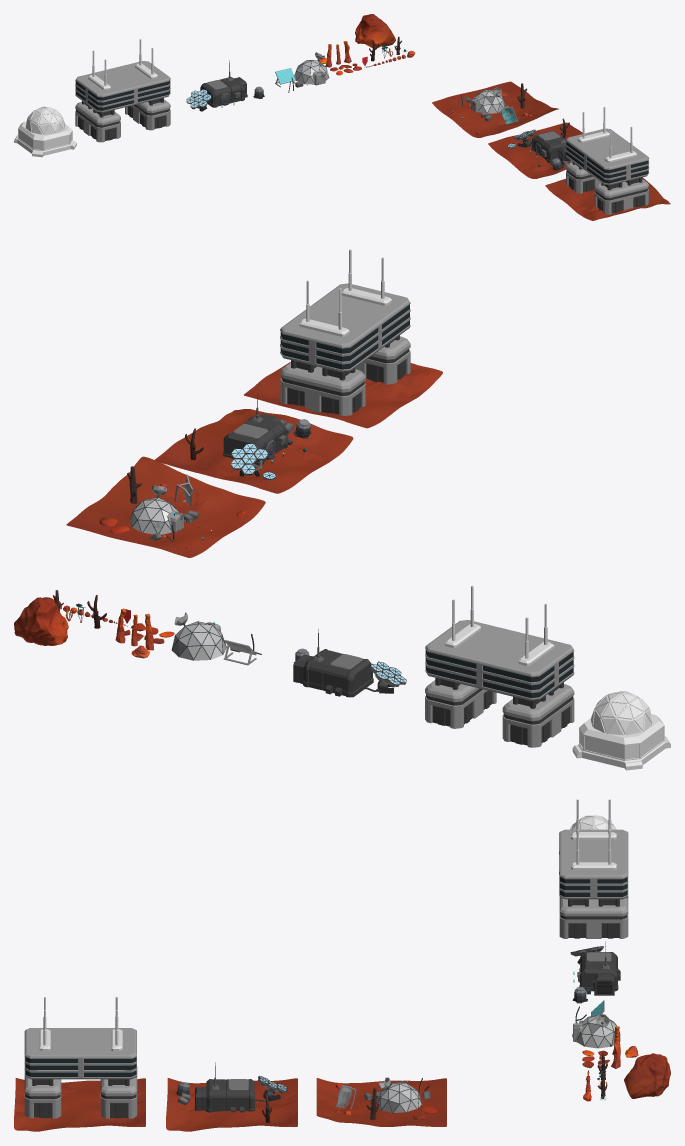
Rendered from terrainassets_V2(resize).glb.
3 views of the same model, one above another, from view 1: azimuth 30°, elevation 25°; view 2: azimuth 150°, elevation 25°; view 3: azimuth 270°, elevation 25° (orthographic). The views are drawn at different scales.
Visible parts, largest first — view 1: Cube.077, Landscape.005, Cube.064, Cube.075, Cube, Landscape.008, Landscape.001, Cube.070, rock25, Icosphere, Cube.029, Icosphere.022 (+2 smaller); view 2: Landscape.005, Cube.077, Cube.064, Landscape.008, Cube.075, Cube, Landscape.001, Cube.070, Icosphere, Cube.029, rock25, Icosphere.022 (+2 smaller); view 3: Cube.064, Cube.077, Landscape.005, Landscape.008, Landscape.001, Cube, Cube.075, rock25, Cube.045, Icosphere.013, Icosphere.022, Cube.029.
Part boxes in pixels (bbox=[...]): Cube.077: bbox=[75, 61, 170, 112]; Landscape.005: bbox=[432, 81, 558, 137]; Cube.064: bbox=[566, 128, 649, 185]; Cube.075: bbox=[75, 99, 170, 142]; Cube: bbox=[566, 162, 648, 214]; Landscape.008: bbox=[488, 122, 582, 178]; Landscape.001: bbox=[545, 177, 670, 220]; Cube.070: bbox=[14, 121, 76, 157]; rock25: bbox=[355, 14, 395, 47]; Icosphere: bbox=[25, 106, 65, 134]; Cube.029: bbox=[200, 77, 244, 107]; Icosphere.022: bbox=[294, 59, 329, 84]; Landscape.005: bbox=[66, 456, 265, 557]; Cube.077: bbox=[425, 620, 574, 700]; Cube.064: bbox=[280, 283, 410, 372]; Landscape.008: bbox=[155, 409, 353, 493]; Cube.075: bbox=[425, 680, 574, 747]; Cube: bbox=[280, 336, 410, 415]; Landscape.001: bbox=[244, 362, 442, 428]; Cube.070: bbox=[572, 714, 670, 770]; Icosphere: bbox=[590, 691, 652, 735]; Cube.029: bbox=[303, 649, 373, 697]; rock25: bbox=[14, 597, 68, 645]; Icosphere.022: bbox=[171, 621, 226, 660]; Cube.064: bbox=[24, 1028, 136, 1079]; Cube.077: bbox=[559, 829, 628, 899]; Landscape.005: bbox=[316, 1078, 446, 1126]; Landscape.008: bbox=[166, 1078, 297, 1131]; Landscape.001: bbox=[14, 1078, 145, 1131]; Cube: bbox=[24, 1067, 137, 1118]; Cube.075: bbox=[559, 896, 628, 938]; rock25: bbox=[624, 1053, 670, 1098]; Cube.045: bbox=[205, 1079, 255, 1112]; Icosphere.013: bbox=[377, 1082, 422, 1112]; Icosphere.022: bbox=[576, 1015, 620, 1048]; Cube.029: bbox=[579, 952, 618, 991].
Bounding box in the file's own units: 157 × 27.87 × 156.
7 materials, 3 textured.
